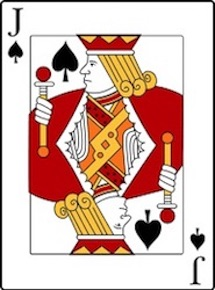JackOfSpades: (1, 2, 214, 290)
